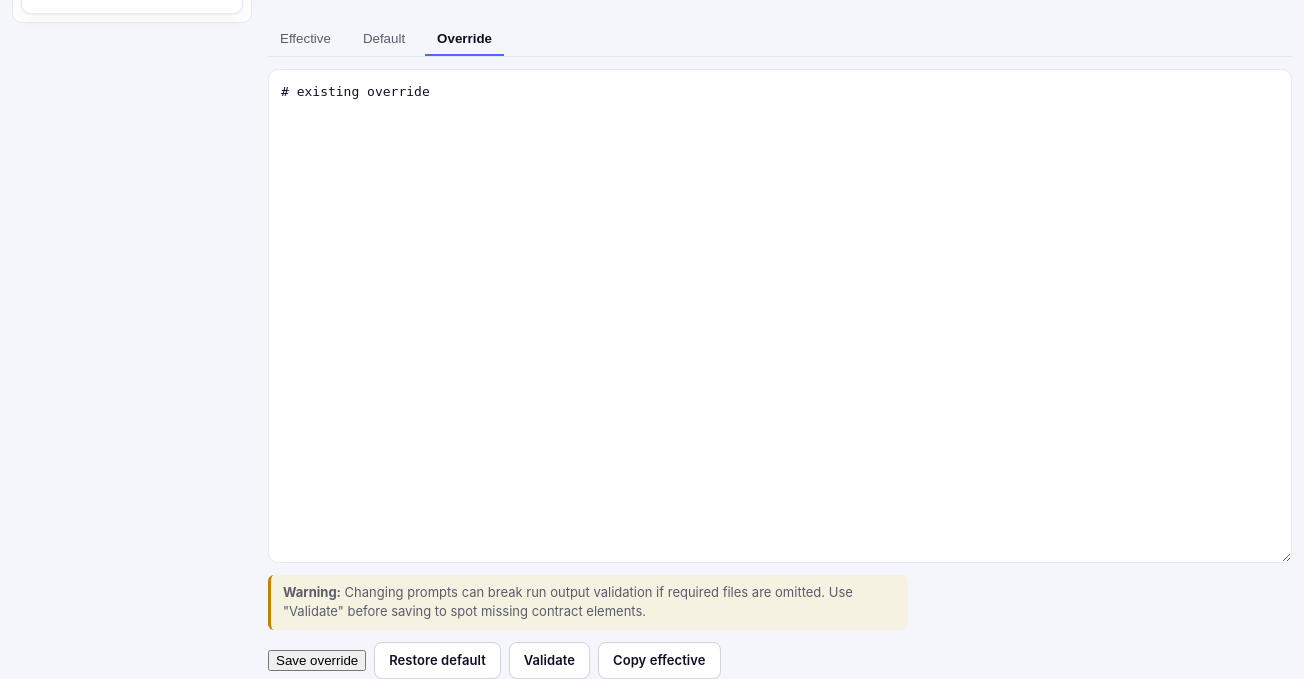
Test: PromptsPage › restores the default by deleting the override
This screenshot has width=1304, height=679.
(page scrolled)
Click the button with test id "prompt-restore-default".
click(438, 660)  # box [374,642,501,678]
(page scrolled)
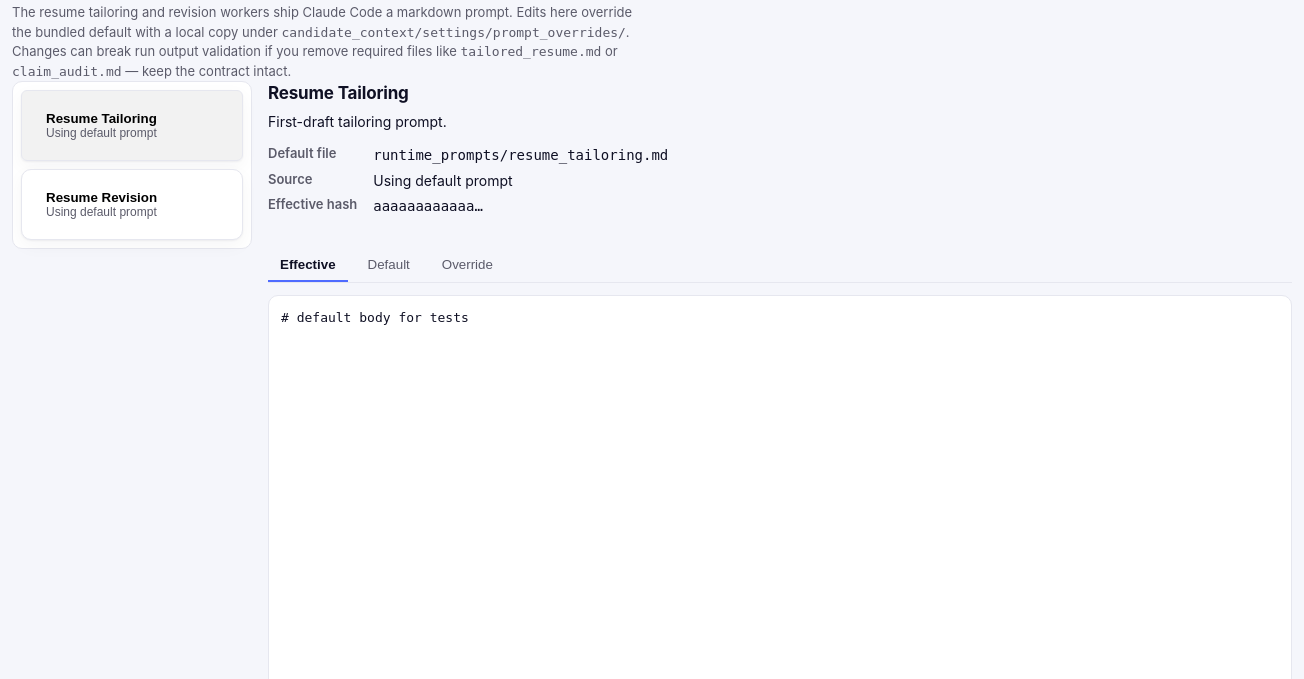
Expected: the text with test id "prompt-effective-source" shows "default", [373,172,513,188]
